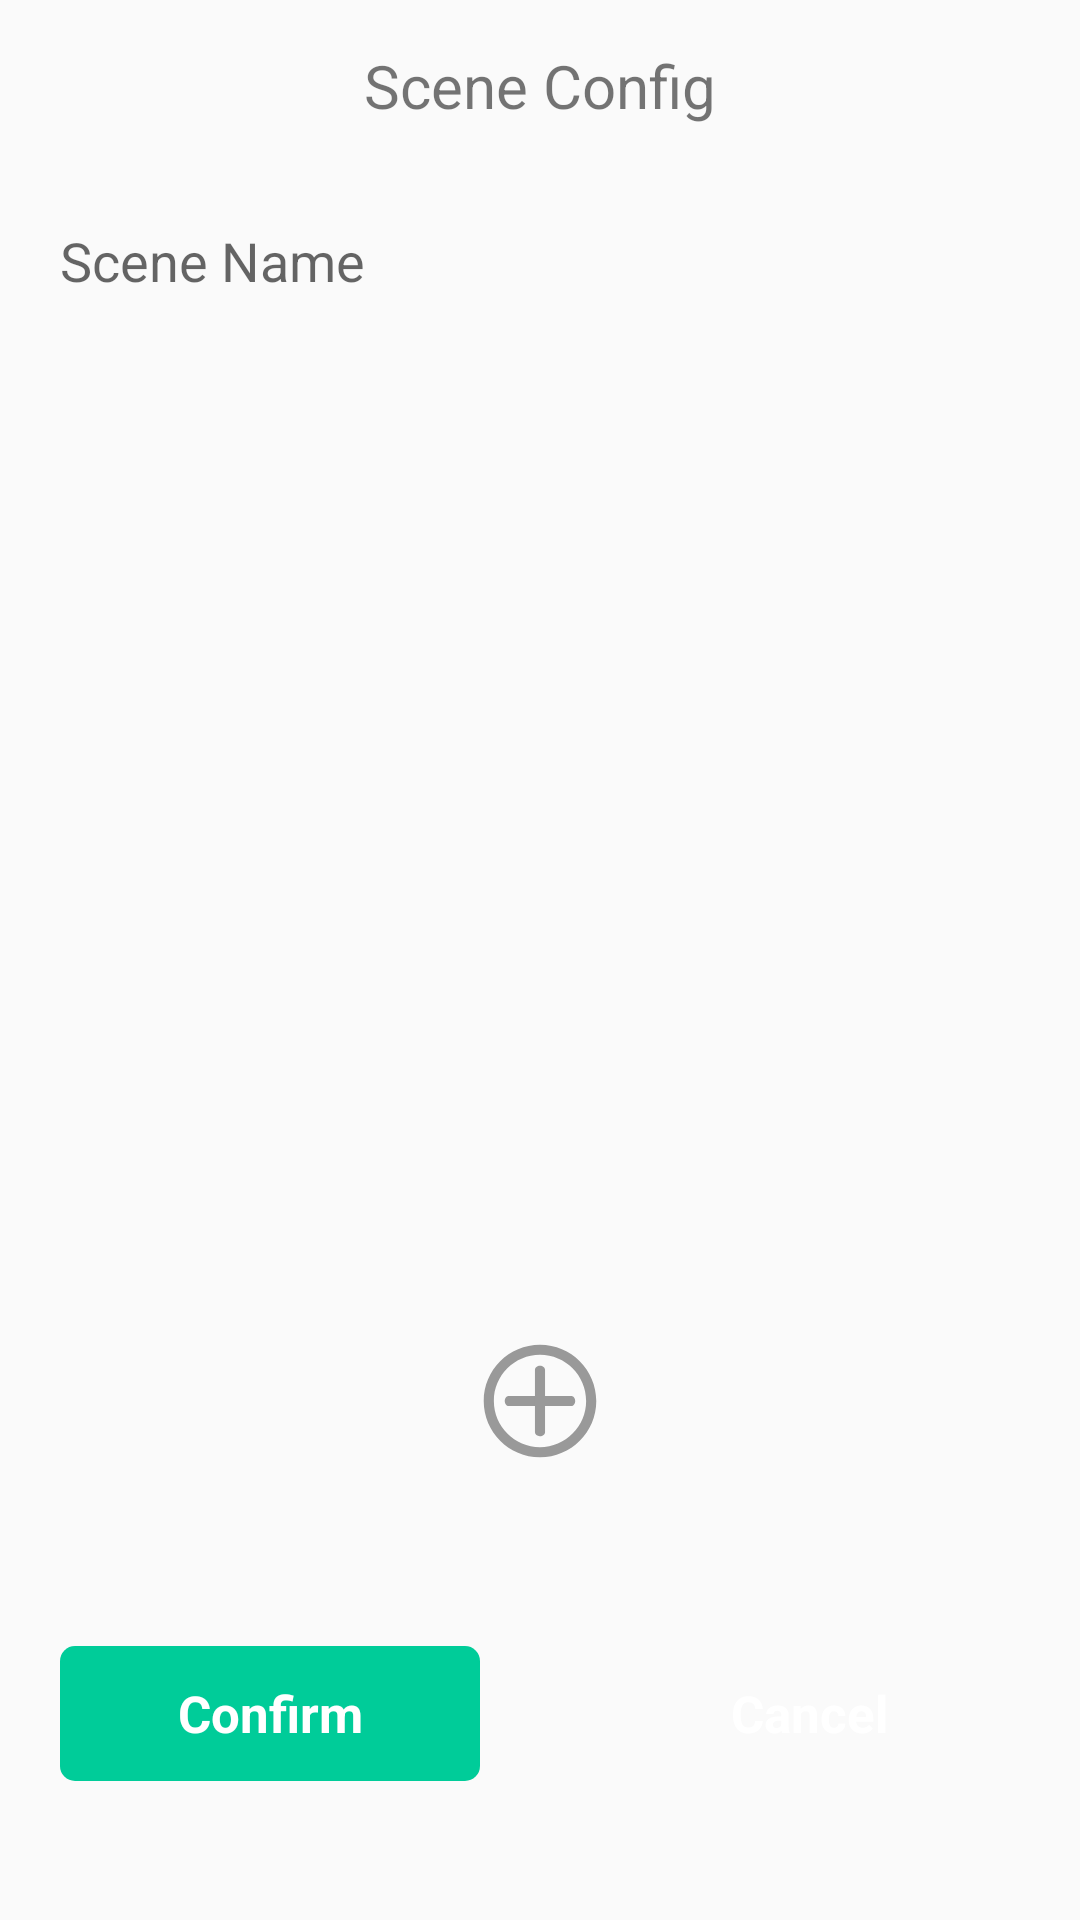

Where icons sit on this 1080 × 1920 app screen, as rect(x1, y1, x2, y2):
add disable: rect(483, 1345, 597, 1457)
